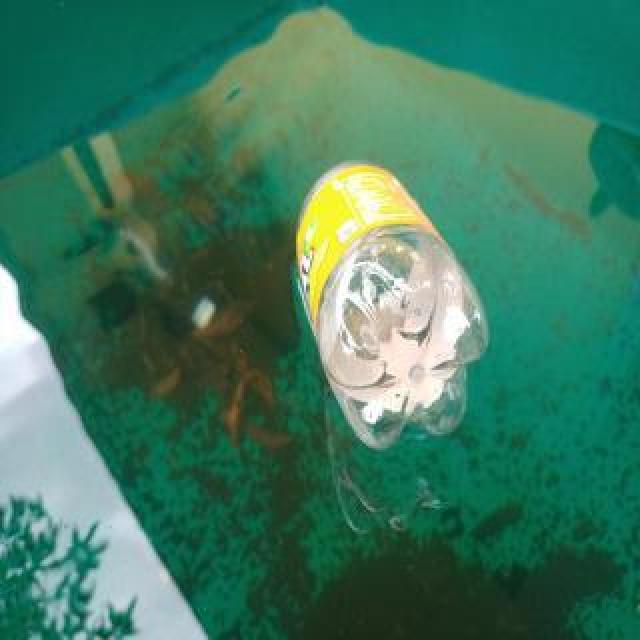bottle: (285, 150, 495, 462)
